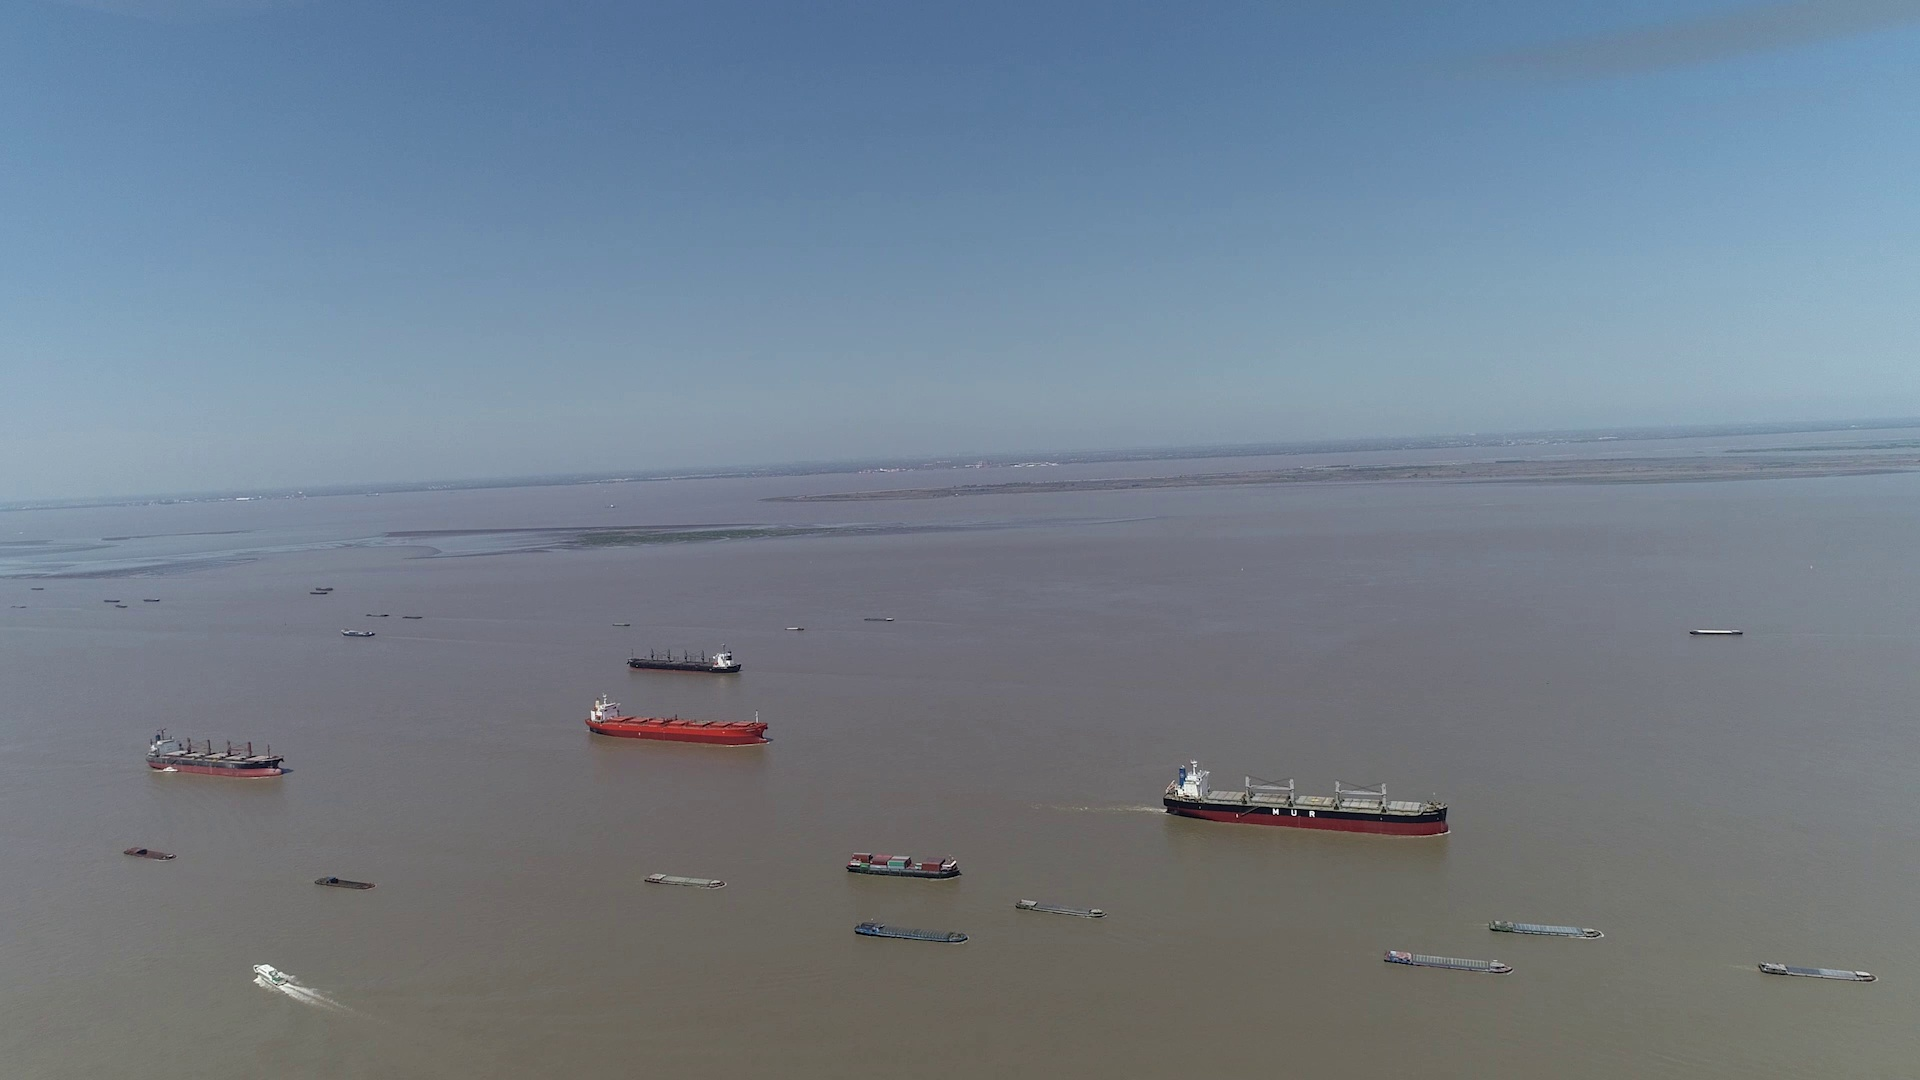ship: (1160, 760, 1449, 837), (585, 696, 769, 746), (152, 731, 280, 777), (845, 851, 961, 880), (626, 644, 742, 673), (1383, 949, 1515, 975), (1756, 957, 1878, 981), (855, 920, 968, 943), (1491, 919, 1602, 938), (1015, 899, 1108, 919), (644, 872, 723, 887), (315, 877, 376, 890), (252, 965, 289, 986), (123, 847, 175, 861), (1691, 626, 1742, 636), (340, 628, 376, 637)
